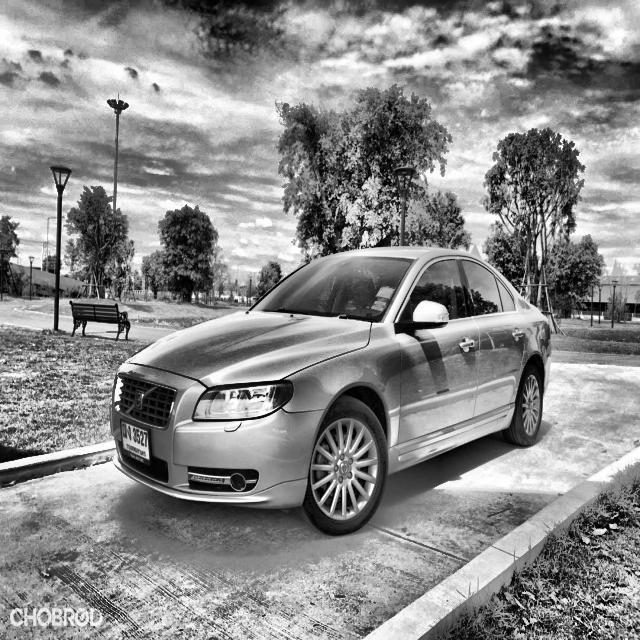license-plate: (119, 415, 152, 467)
